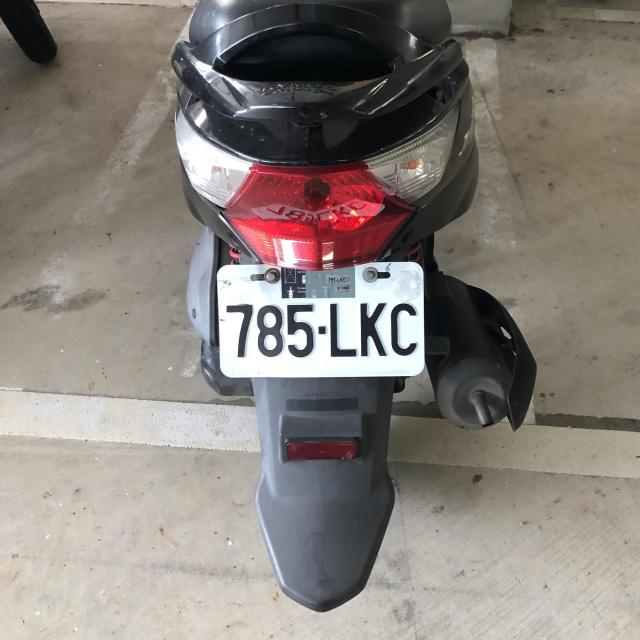W: (215, 258, 422, 378)
